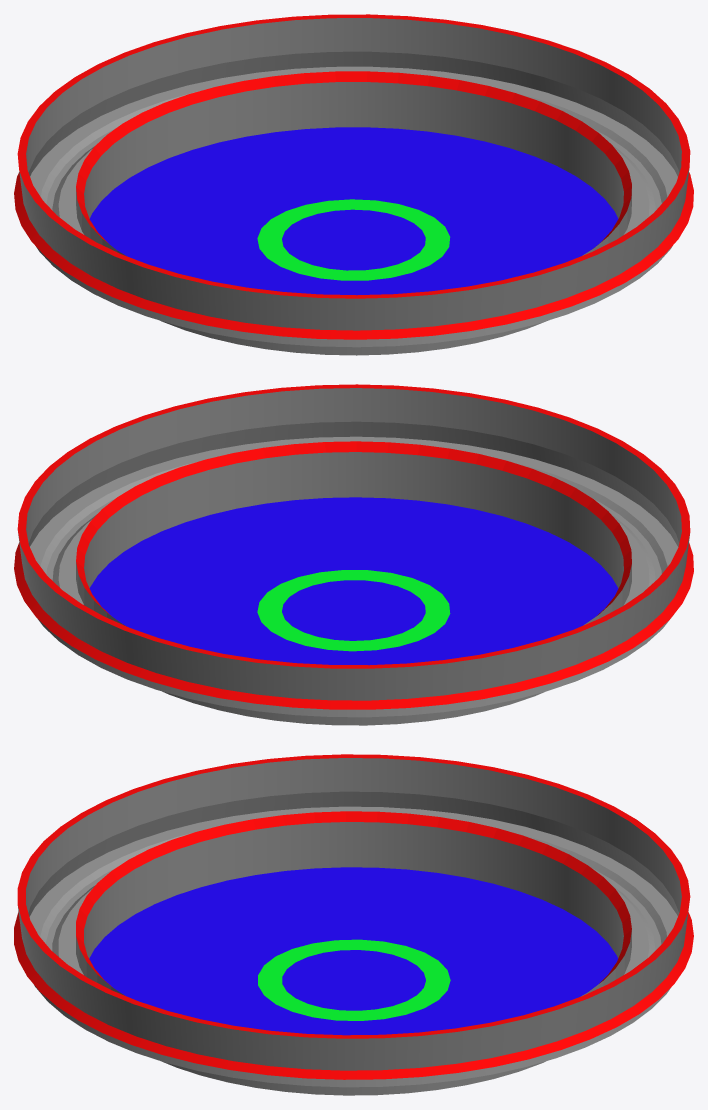
The picture shows the model from 3 angles, top to bottom: view 1: azimuth 30°, elevation 25°; view 2: azimuth 150°, elevation 25°; view 3: azimuth 270°, elevation 25°; orthographic projection.
Parts seen in each view (by area): view 1: Tube002; view 2: Tube002; view 3: Tube002.
Boxes of the visible parts, left/top/right/bottom form: Tube002: left=14, top=14, right=693, bottom=355; Tube002: left=14, top=384, right=693, bottom=725; Tube002: left=14, top=754, right=693, bottom=1095.
Size of the model in its own units: 340 by 46.78 by 340.
